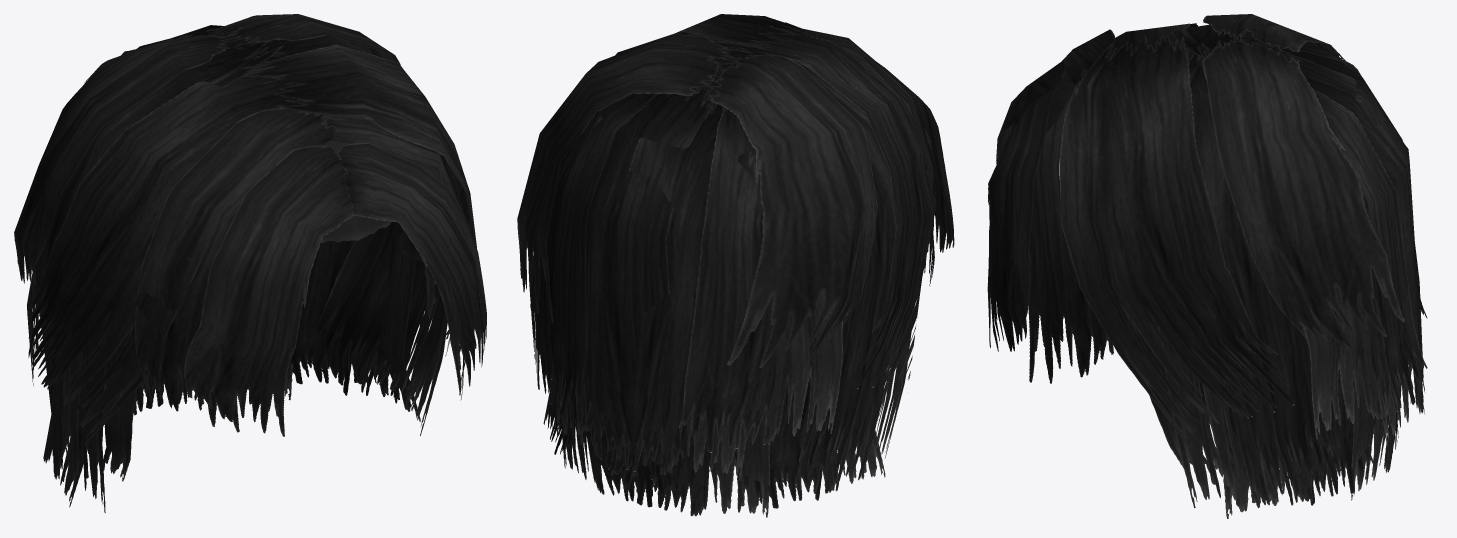
The model's file is hair_010.fbx.
3 renders of one model, left to right at view 1: azimuth 30°, elevation 25°; view 2: azimuth 150°, elevation 25°; view 3: azimuth 270°, elevation 25°, orthographic. The views are drawn at different scales.
Visible parts, largest first — view 1: hair_010; view 2: hair_010; view 3: hair_010.
Boxes of the visible parts, box(x1,y1,x2,y2) form: hair_010: box(14, 14, 486, 512); hair_010: box(517, 14, 954, 517); hair_010: box(987, 14, 1427, 518).
Bounding box in the file's own units: 21.16 × 23.43 × 23.27.
